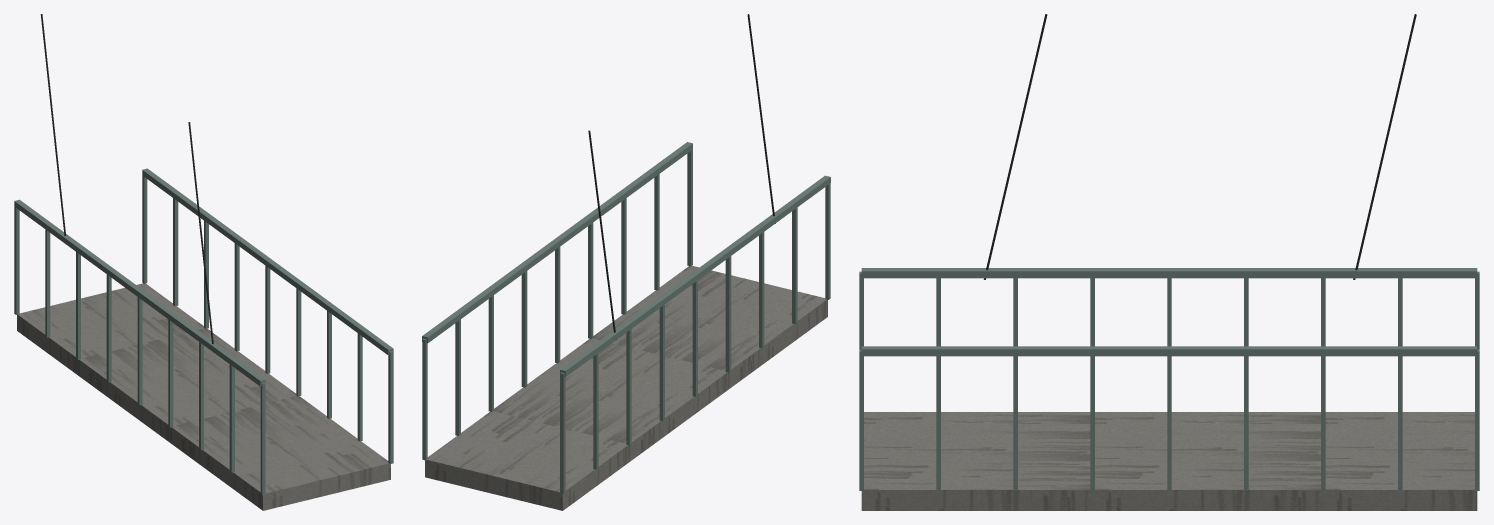
File: catwalk.glb
3 views of the same model, side by side, from view 1: azimuth 30°, elevation 25°; view 2: azimuth 150°, elevation 25°; view 3: azimuth 270°, elevation 25° (orthographic). The views are drawn at different scales.
Visible parts, largest first — view 1: catwalk; view 2: catwalk; view 3: catwalk.
Part boxes in pixels (x1,y1,x2,y2): catwalk: [14, 14, 393, 510]; catwalk: [422, 14, 830, 510]; catwalk: [859, 14, 1479, 510].
Bounding box in the file's own units: 1.25 × 3 × 4.03.
3 materials, 1 textured.
